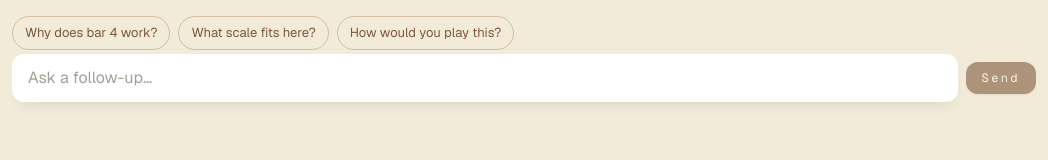
CoachChat › should enable Send button when input has text
The image size is (1048, 160).
Type "Test question" into the text box named "ask the coach" at [485, 78], box 12,54 -> 958,102
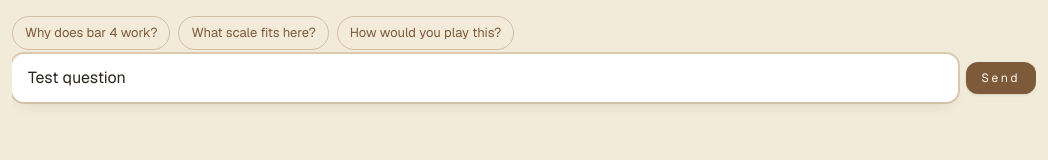
Expected: the button "Send" is enabled, 966,62 -> 1036,94
